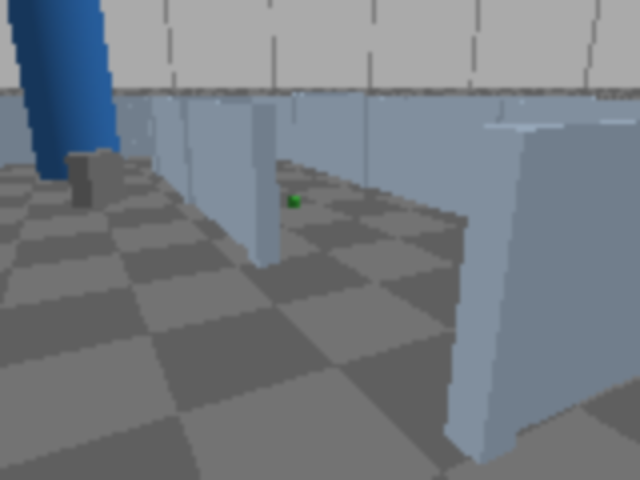obstacle: (65, 149, 128, 209)
